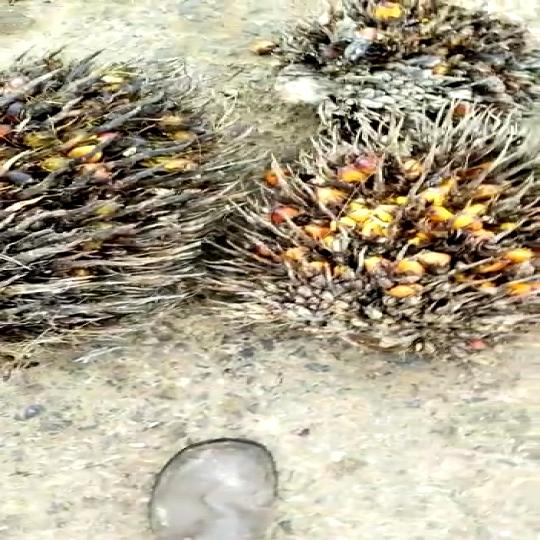terlalu masak: (196, 119, 540, 346), (257, 0, 527, 112)
